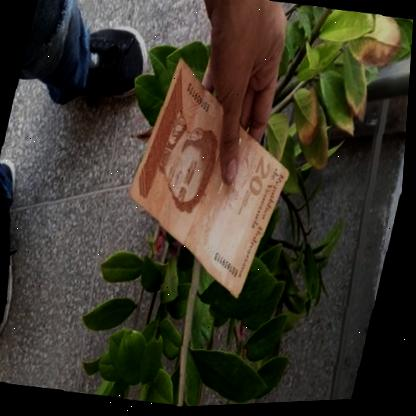vef_front: (109, 49, 316, 309)
